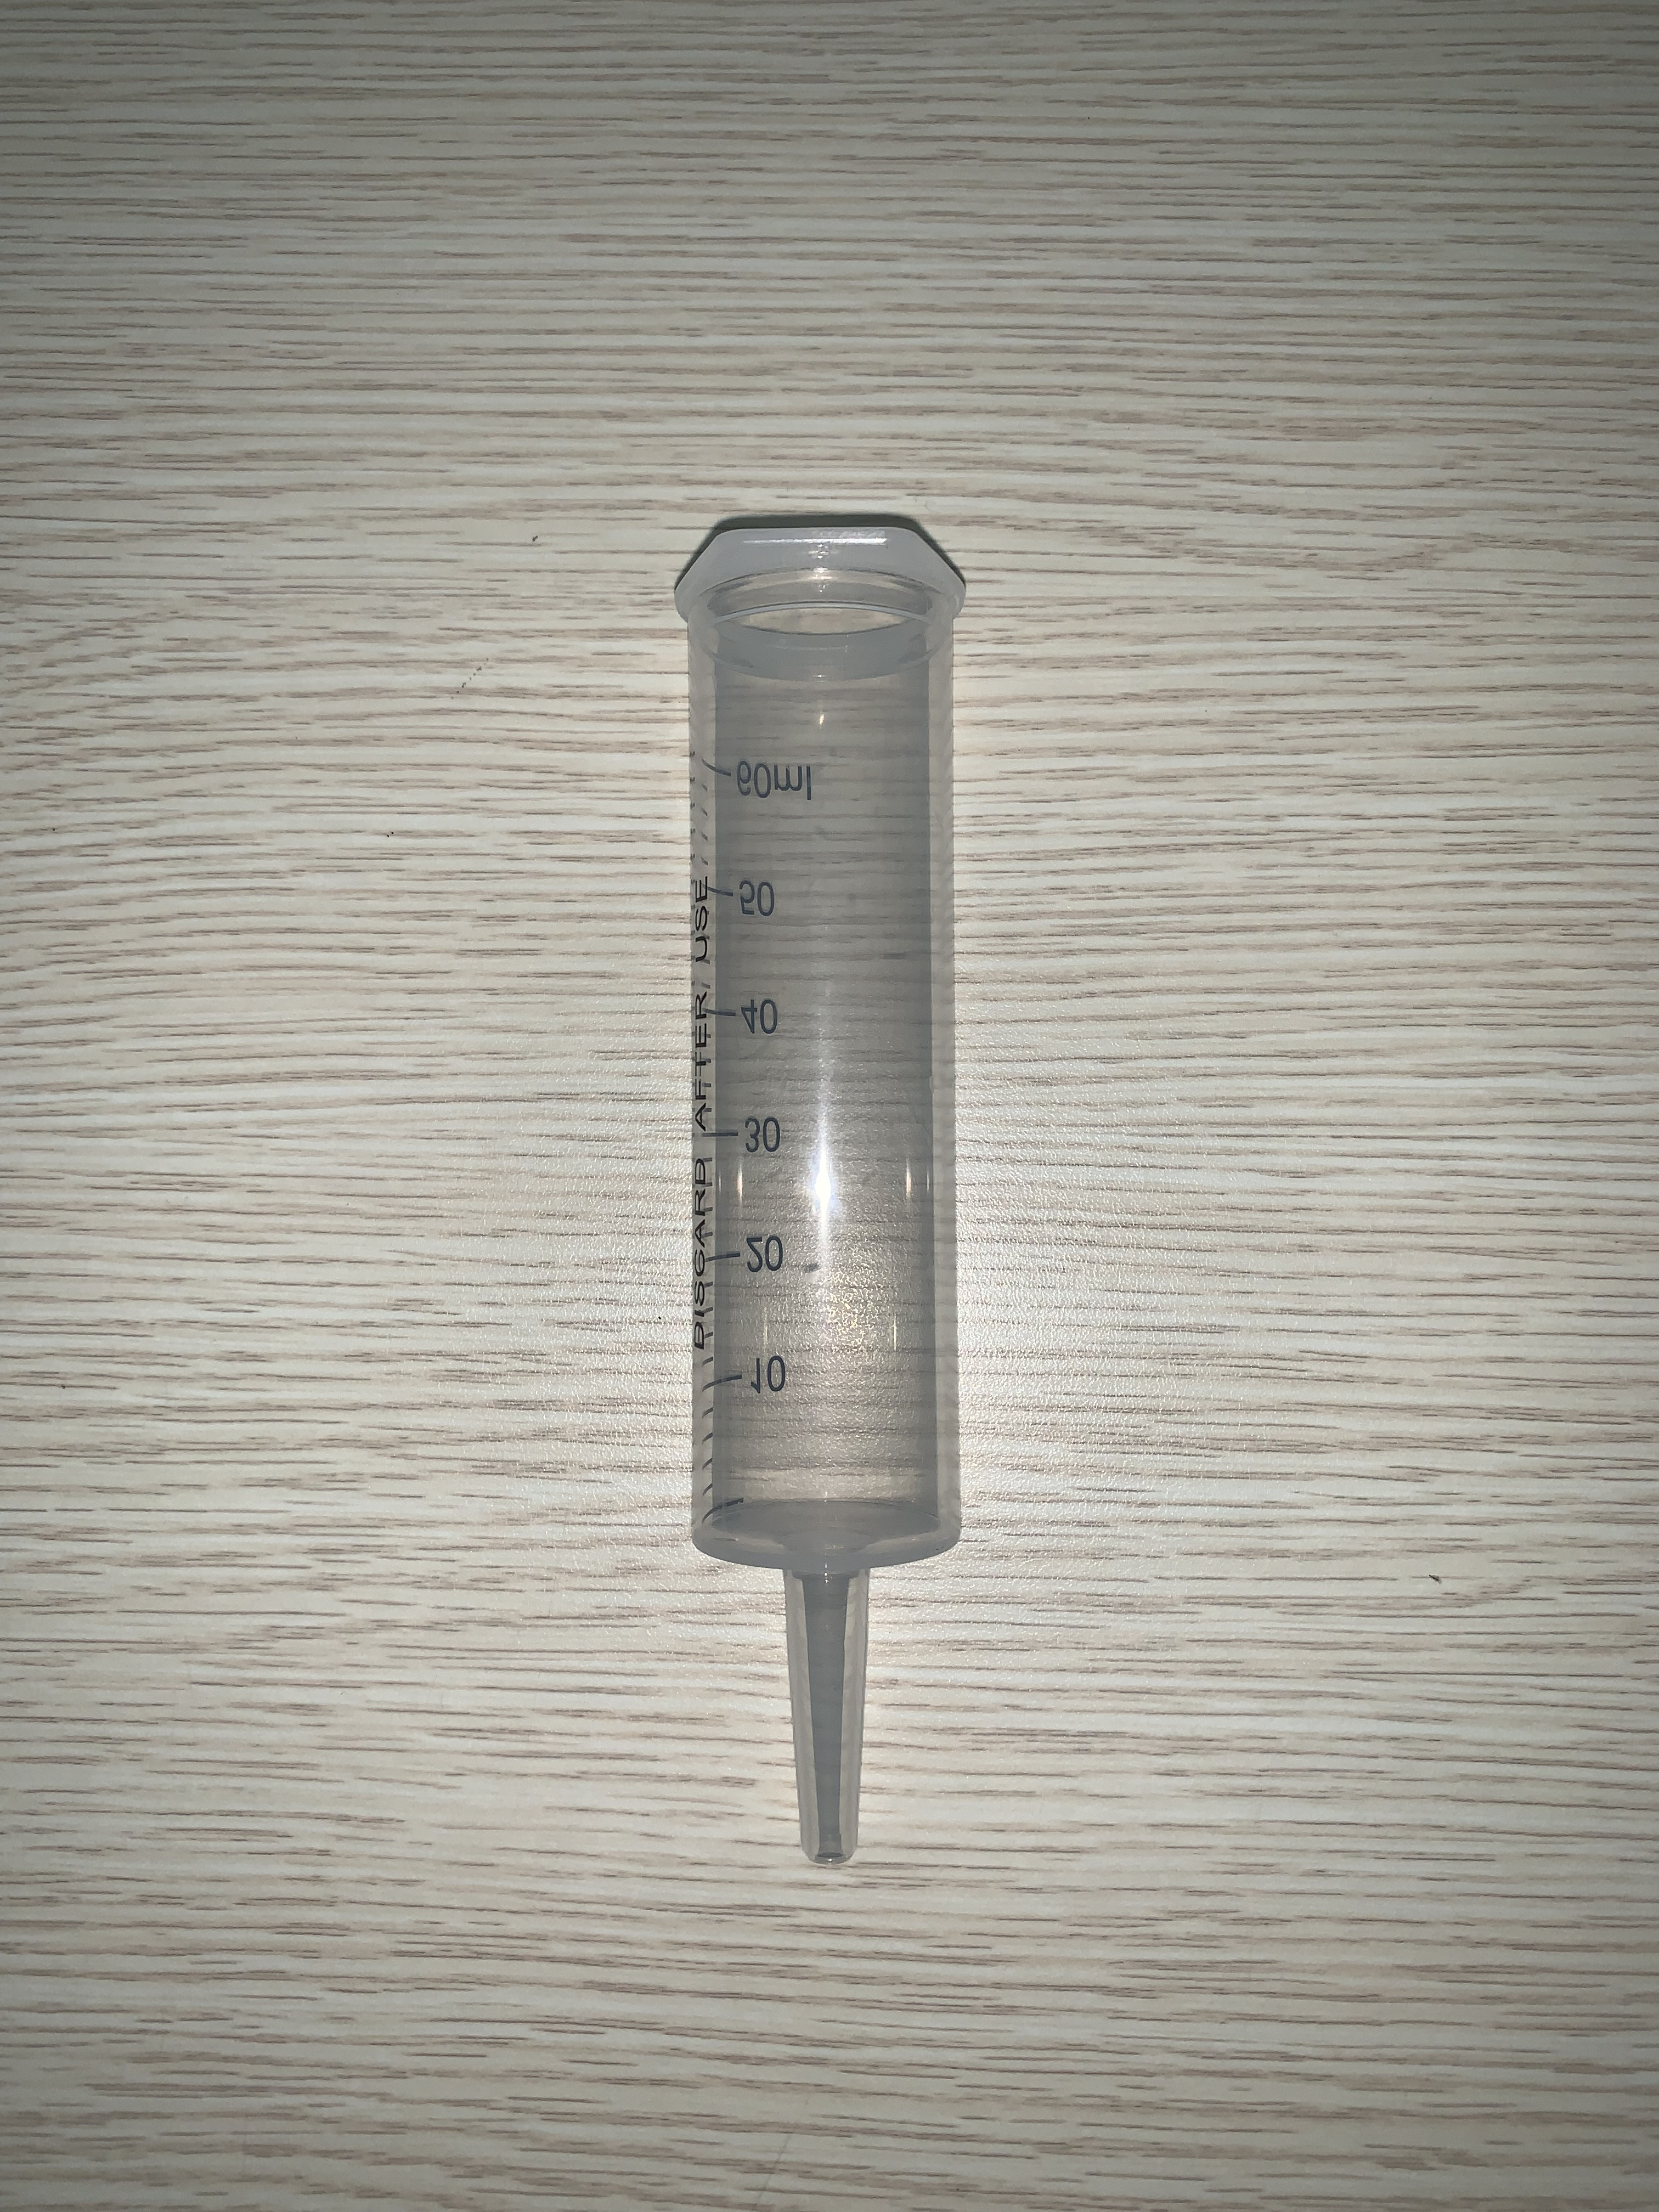syringe: (660, 502, 981, 1872)
